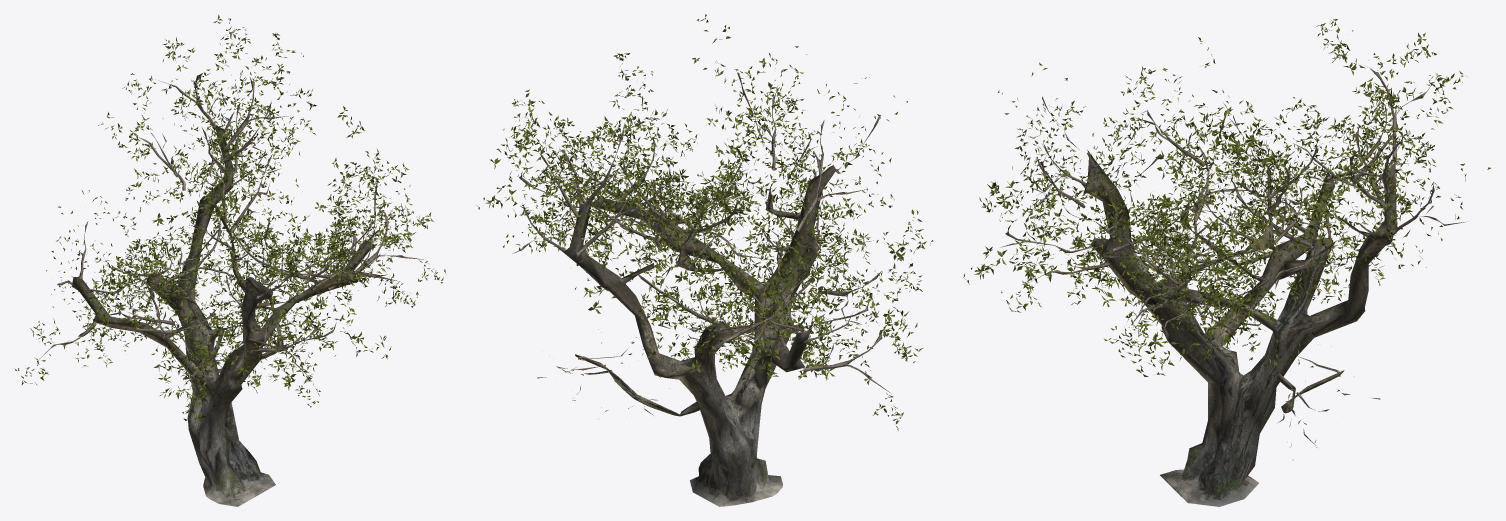
Rendered from island1_lod0.glb.
3 renders of one model, left to right at view 1: azimuth 30°, elevation 25°; view 2: azimuth 150°, elevation 25°; view 3: azimuth 270°, elevation 25°, orthographic. The views are drawn at different scales.
Visible parts, largest first — view 1: island_tree_01_LOD0; view 2: island_tree_01_LOD0; view 3: island_tree_01_LOD0.
Boxes of the visible parts, box(x1,y1,x2,y2) form: island_tree_01_LOD0: box(14, 14, 446, 506); island_tree_01_LOD0: box(477, 14, 933, 506); island_tree_01_LOD0: box(963, 19, 1490, 506).
Bounding box in the file's own units: 4.7 × 4.98 × 4.79.
Materials: 3 (3 with a texture image).
